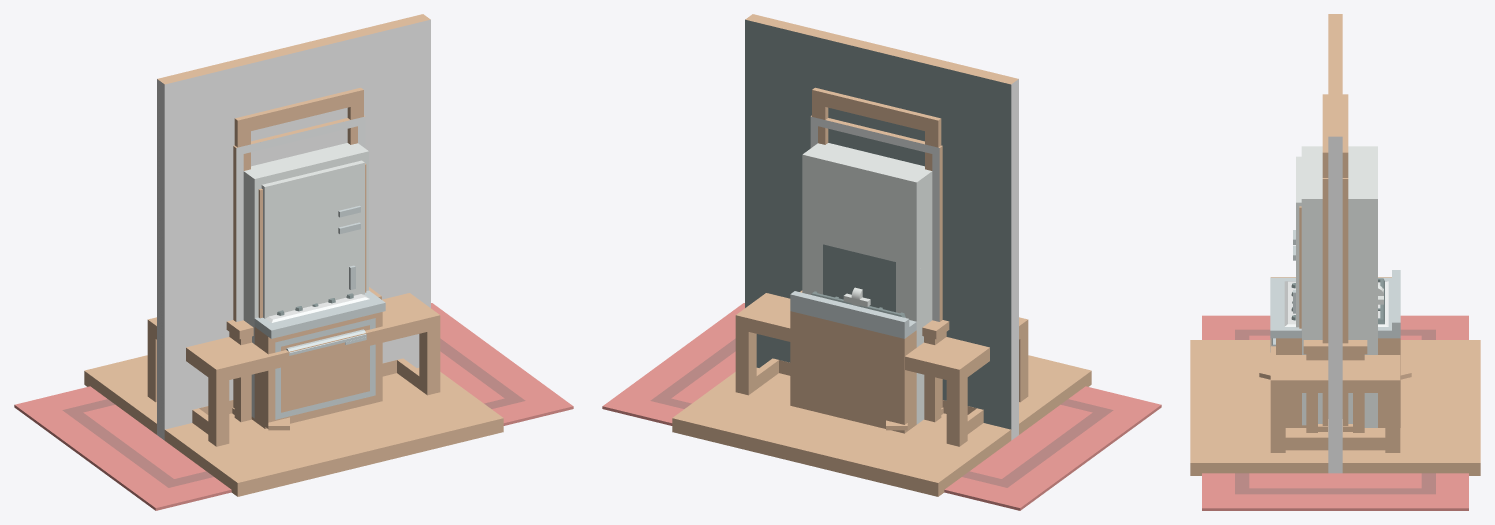
Rendered from interior.glb.
3 views of the same model, side by side, from view 1: azimuth 30°, elevation 25°; view 2: azimuth 150°, elevation 25°; view 3: azimuth 270°, elevation 25° (orthographic). The views are drawn at different scales.
Parts seen in each view (by area): view 1: wall(Clone), wallDoorway(Clone), floorFull(Clone), wallWindow(Clone), rugRectangle(Clone), kitchenFridge(Clone), table(Clone), kitchenSink(Clone), kitchenStove(Clone), doorwayFront(Clone), kitchenCabinet(Clone), sideTable(Clone) (+2 smaller); view 2: wall(Clone), floorFull(Clone), kitchenFridge(Clone), rugRectangle(Clone), wallWindow(Clone), wallDoorway(Clone), kitchenCabinet(Clone), table(Clone), doorwayFront(Clone), kitchenFridgeSmall(Clone), sideTable(Clone), kitchenSink(Clone); view 3: floorFull(Clone), rugRectangle(Clone), table(Clone), kitchenFridge(Clone), wall(Clone), kitchenFridgeSmall(Clone), wallDoorway(Clone), kitchenCabinet(Clone), sideTable(Clone), kitchenSink(Clone), wallWindow(Clone), kitchenStove(Clone) (+1 smaller).
Boxes of the visible parts, <box> form: wall(Clone): <box>157,14,430,440</box>; wallDoorway(Clone): <box>164,20,430,429</box>; floorFull(Clone): <box>84,355,503,496</box>; wallWindow(Clone): <box>164,20,430,429</box>; rugRectangle(Clone): <box>14,303,573,510</box>; kitchenFridge(Clone): <box>243,143,368,318</box>; table(Clone): <box>147,293,440,446</box>; kitchenSink(Clone): <box>254,290,385,423</box>; kitchenStove(Clone): <box>266,293,375,419</box>; doorwayFront(Clone): <box>236,116,365,321</box>; kitchenCabinet(Clone): <box>251,303,385,428</box>; sideTable(Clone): <box>226,287,381,422</box>; wall(Clone): <box>745,14,1018,440</box>; floorFull(Clone): <box>672,355,1091,496</box>; kitchenFridge(Clone): <box>802,143,932,321</box>; rugRectangle(Clone): <box>602,303,1161,510</box>; wallWindow(Clone): <box>745,20,1011,426</box>; wallDoorway(Clone): <box>745,19,1011,423</box>; kitchenCabinet(Clone): <box>790,294,916,433</box>; table(Clone): <box>735,293,1028,446</box>; doorwayFront(Clone): <box>810,116,939,321</box>; kitchenFridgeSmall(Clone): <box>916,260,932,424</box>; sideTable(Clone): <box>800,290,949,422</box>; kitchenSink(Clone): <box>790,287,916,344</box>; floorFull(Clone): <box>1190,340,1480,475</box>; rugRectangle(Clone): <box>1202,315,1468,510</box>; table(Clone): <box>1270,277,1400,452</box>; kitchenFridge(Clone): <box>1296,146,1377,330</box>; wall(Clone): <box>1328,14,1342,473</box>; kitchenFridgeSmall(Clone): <box>1296,283,1377,427</box>; wallDoorway(Clone): <box>1322,178,1348,425</box>; kitchenCabinet(Clone): <box>1270,322,1400,427</box>; sideTable(Clone): <box>1303,340,1367,432</box>; kitchenSink(Clone): <box>1270,270,1400,352</box>; wallWindow(Clone): <box>1322,94,1348,177</box>; kitchenStove(Clone): <box>1270,278,1388,349</box>.
Size of the model in its own units: 3.61 by 2.97 by 2.3.
